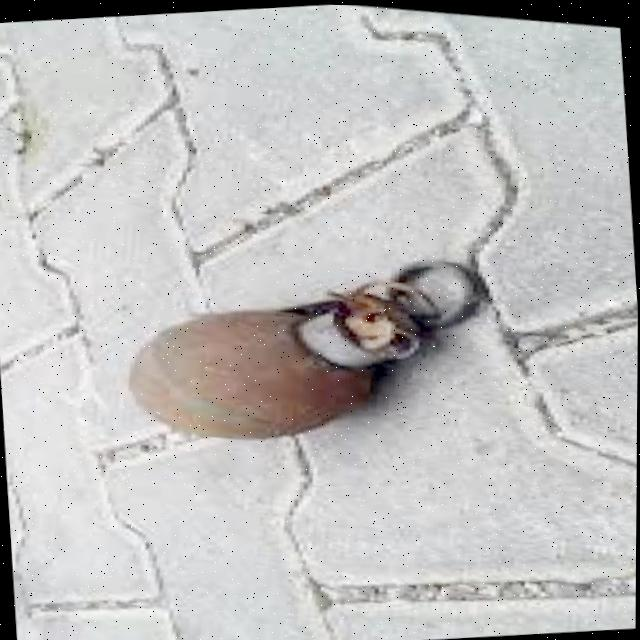grenade: (116, 206, 521, 491)
